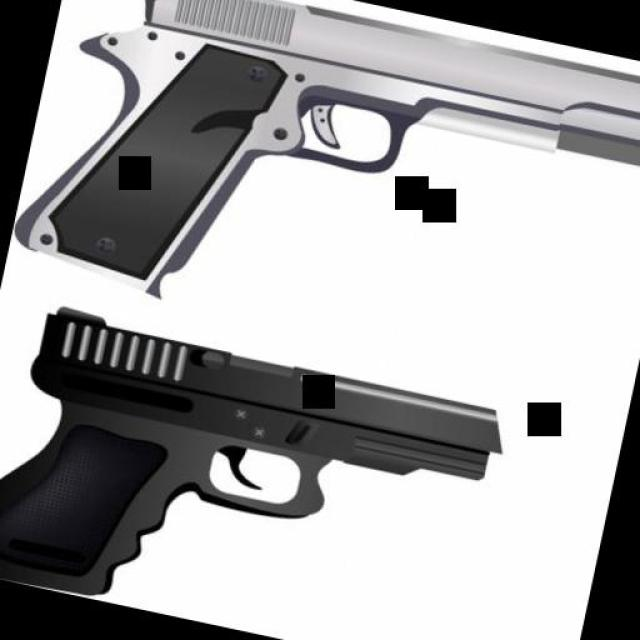gun: (10, 0, 640, 389), (0, 291, 505, 640)
